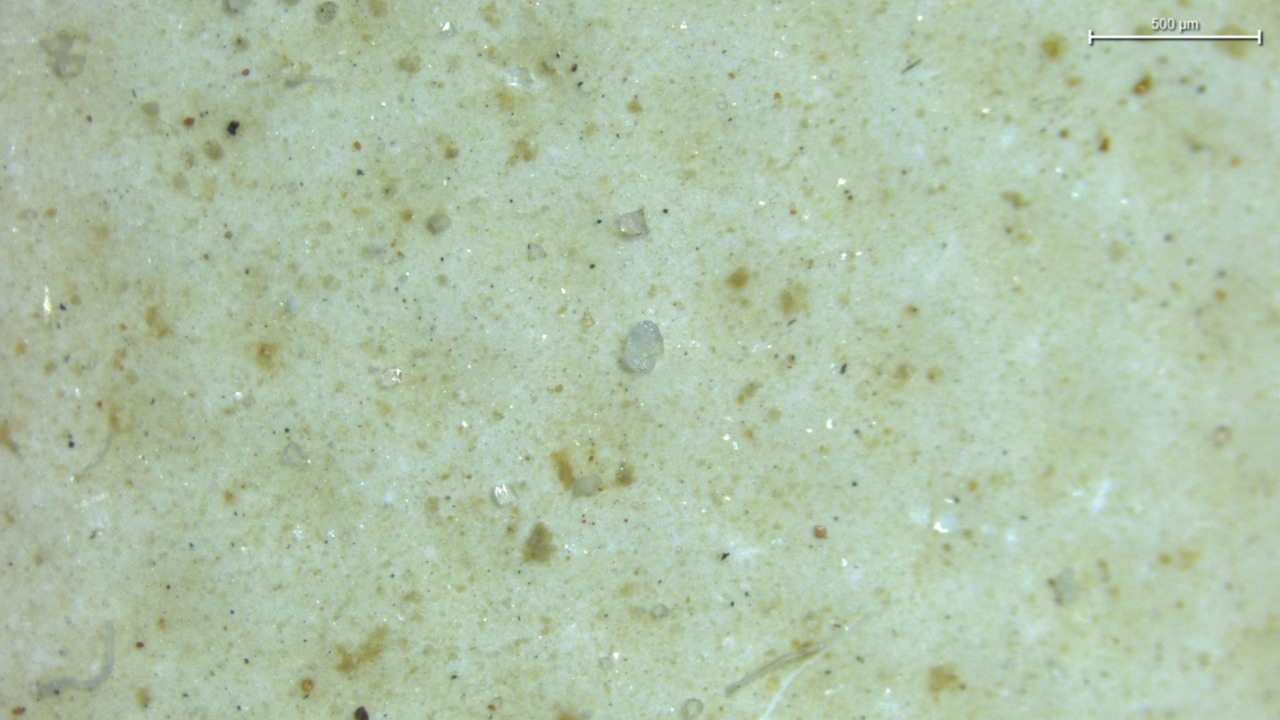microplastic_fragment: (623, 320, 663, 372), (618, 210, 648, 236)
